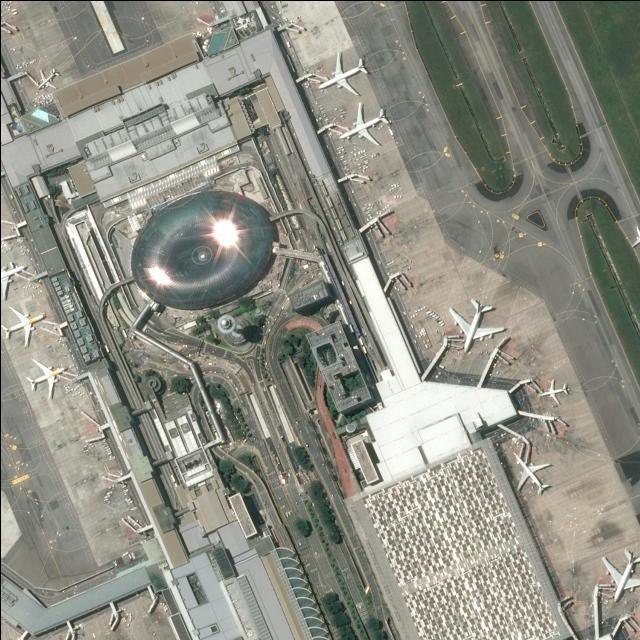Aircraft: (448, 296, 508, 352), (317, 50, 370, 96), (339, 100, 391, 145), (601, 546, 640, 600), (0, 304, 47, 344), (512, 450, 553, 495), (24, 357, 68, 397), (0, 256, 27, 298), (538, 376, 571, 404), (36, 66, 61, 90), (630, 224, 640, 247)
